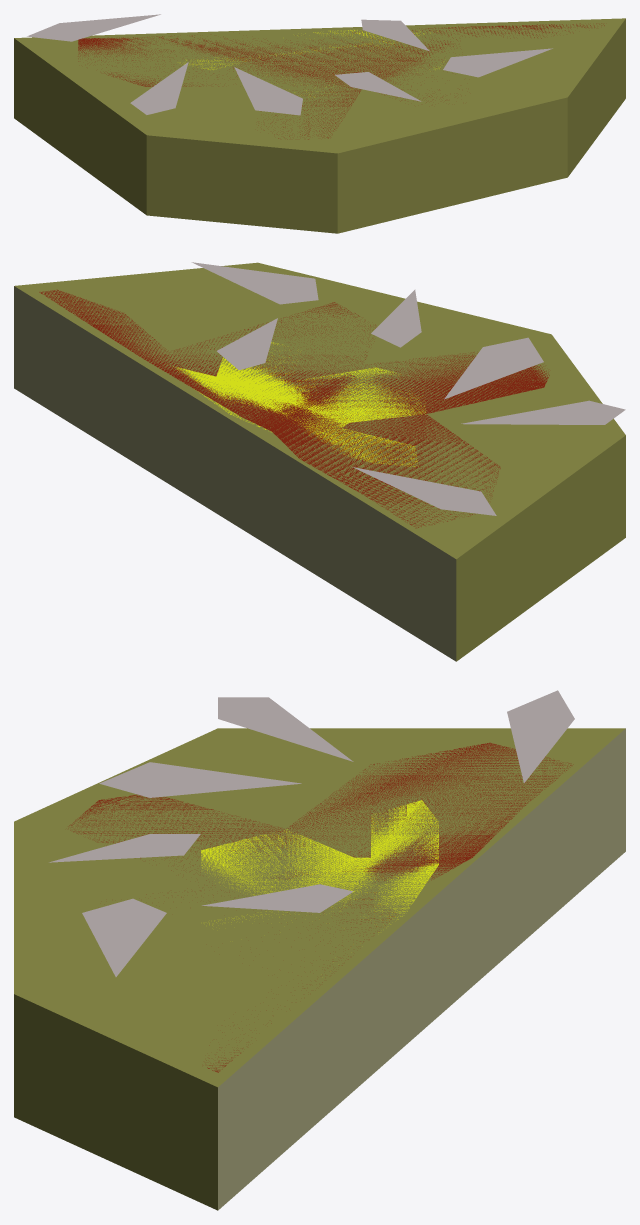
The model's file is inv_1_2_plain_pizza.obj.
3 renders of one model, top to bottom at view 1: azimuth 30°, elevation 25°; view 2: azimuth 150°, elevation 25°; view 3: azimuth 270°, elevation 25°, orthographic. The views are drawn at different scales.
Bounding box in the file's own units: 0.3984 × 0.0781 × 0.2812.
